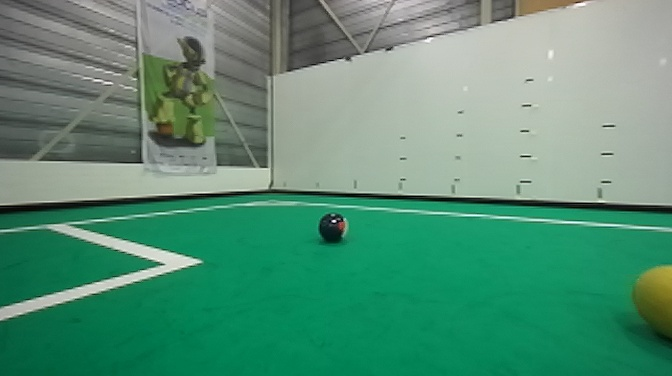ball: (626, 260, 672, 347), (316, 210, 350, 244)
